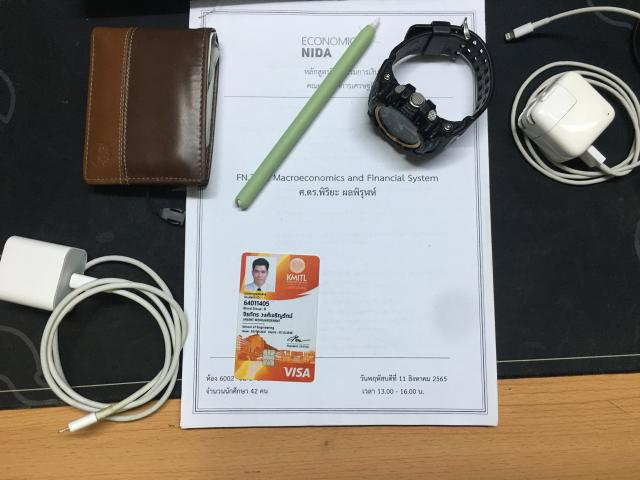Wallet: (84, 28, 219, 186)
Watch: (368, 19, 494, 155)
paper: (181, 1, 498, 428)
wire: (0, 236, 186, 431), (511, 61, 640, 185), (505, 6, 640, 40)
